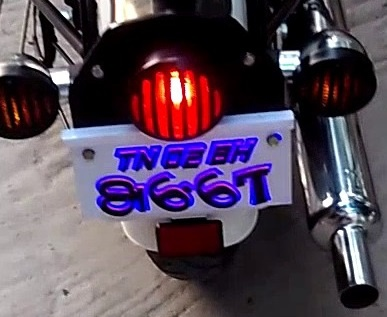plate: (63, 127, 291, 224)
